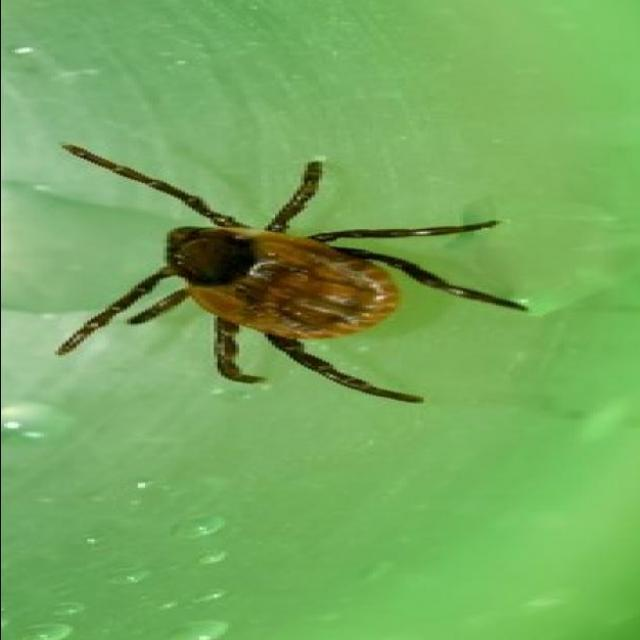Rhipicephalus Sanguineus-F: (61, 147, 495, 398)
